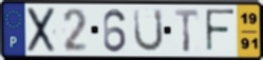2: (61, 7, 89, 53)
6: (102, 7, 128, 54)
F: (204, 8, 237, 55)
T: (173, 8, 201, 54)
U: (132, 8, 165, 54)
X: (26, 6, 57, 54)
